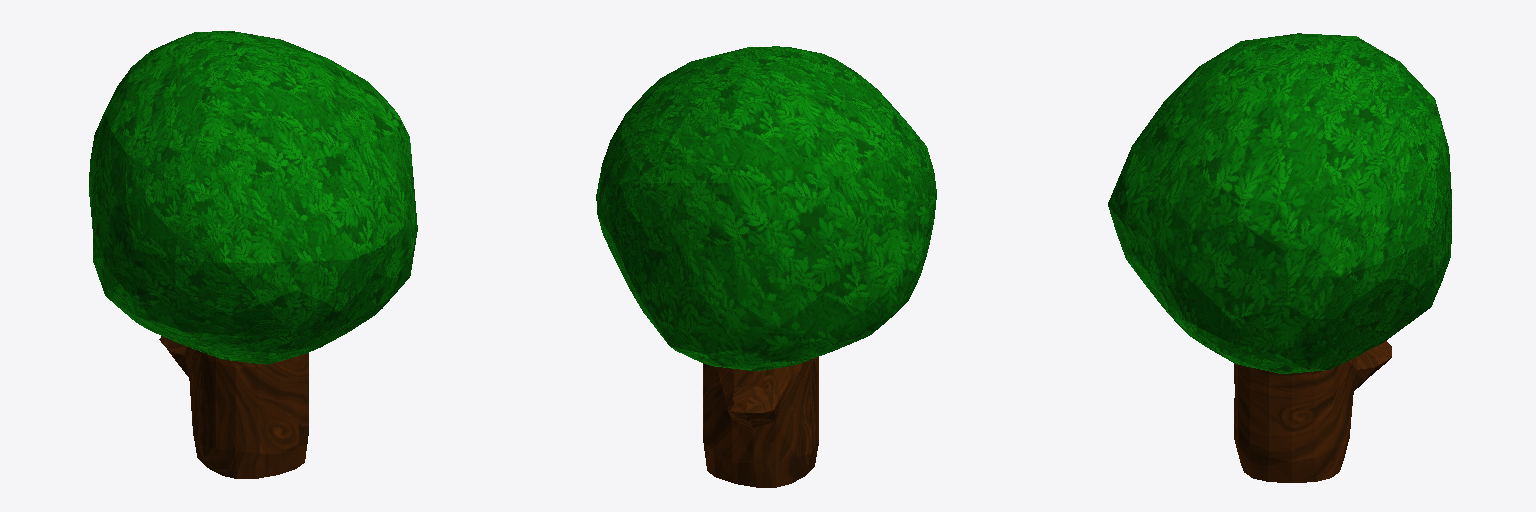
The picture shows the model from 3 angles: view 1: azimuth 30°, elevation 25°; view 2: azimuth 150°, elevation 25°; view 3: azimuth 270°, elevation 25°; orthographic projection.
Parts seen in each view (by area): view 1: Cube_Cube.005; view 2: Cube_Cube.005; view 3: Cube_Cube.005.
Part boxes in pixels (left/top/right/bottom): Cube_Cube.005: left=89, top=31, right=417, bottom=478; Cube_Cube.005: left=596, top=46, right=936, bottom=487; Cube_Cube.005: left=1108, top=33, right=1451, bottom=482.
Size of the model in its own units: 5.57 by 7.52 by 5.73.
Materials: 1 (1 with a texture image).